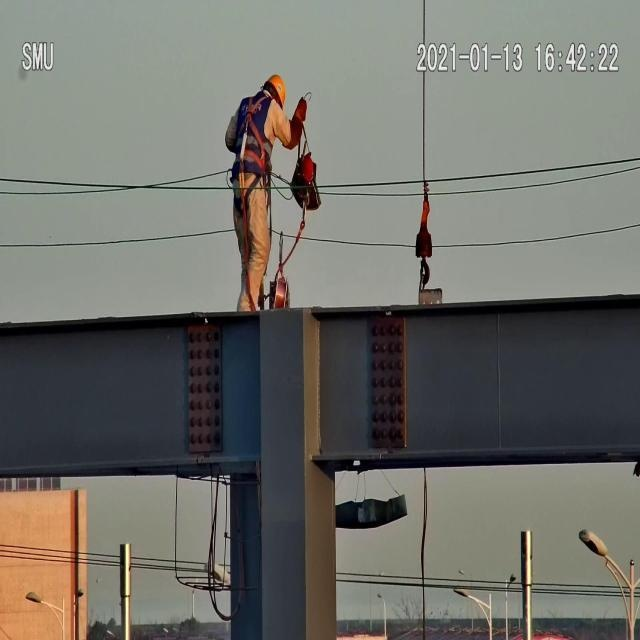Arnes_seguridad: (231, 90, 274, 176)
